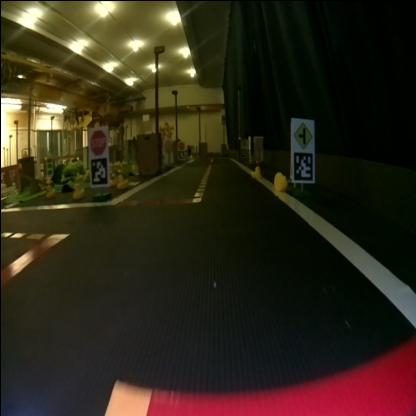Duckie: (272, 171, 286, 189), (72, 182, 82, 198), (116, 174, 127, 187), (251, 164, 259, 176), (46, 185, 53, 197)
Intersection sign: (290, 120, 312, 146)
QR code: (292, 150, 310, 178), (90, 157, 106, 182), (177, 152, 182, 157)
Stop sign: (88, 128, 106, 154)
